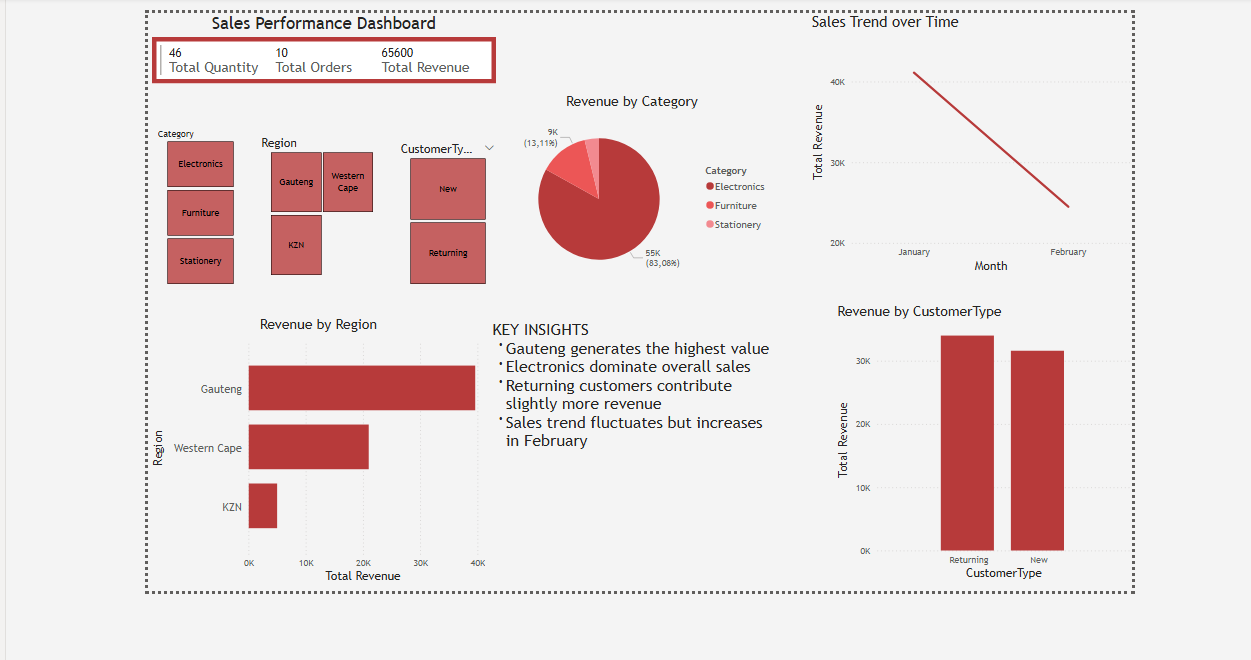

Layout of this report page (visuals, bound fields, positions):
{"tool":"powerbi","page":{"name":"Page 1","canvas":[1313,770],"ordinal":0},"visuals":[{"type":"barChart","title":"Revenue by Region","fields":{"Category":["Sheet1.Region"],"Y":["Sheet1.Total Revenue"]},"box":[0,404,454,360],"z":0},{"type":"lineChart","title":"Sales Trend over Time","fields":{"Y":["Sheet1.Total Revenue"],"Category":["Sheet1.Date.Variation.Date Hierarchy.Month","Sheet1.Date.Variation.Date Hierarchy.Day"]},"box":[880,0,434,350],"z":1000},{"type":"pieChart","title":"Revenue by Category","fields":{"Category":["Sheet1.Category","Sheet1.Region"],"Y":["Sheet1.Total Revenue"]},"box":[454,106,382,262],"z":2000},{"type":"columnChart","title":"Revenue by CustomerType","fields":{"Y":["Sheet1.Total Revenue"],"Category":["Sheet1.CustomerType"]},"box":[914,386,400,374],"z":3000},{"type":"multiRowCard","title":"Sales Performance Dashboard","fields":{"Values":["Sheet1.Total Quantity","Sheet1.Total Orders","Sheet1.Total Revenue"]},"box":[0,0,469,147],"z":4000},{"type":"slicer","fields":{"Values":["Sheet1.Category"]},"box":[0,148,138,220],"z":5000},{"type":"slicer","fields":{"Values":["Sheet1.Region"]},"box":[138,158,186,198],"z":6000},{"type":"slicer","fields":{"Values":["Sheet1.CustomerType"]},"box":[324,166,150,202],"z":6001},{"type":"textbox","box":[454,404,382,230],"z":6002}]}

Visuals, with their boxes on the page's 1313x770 design canvas (x1, y1, x2, y2). These are canvas units, not pixel positions in the 1251x660 screenshot, which may show the page scaled, cropped or inside an application window:
"Revenue by Region" barChart: pyautogui.locateOnScreen(0, 404, 454, 764)
"Sales Trend over Time" lineChart: pyautogui.locateOnScreen(880, 0, 1314, 350)
"Revenue by Category" pieChart: pyautogui.locateOnScreen(454, 106, 836, 368)
"Revenue by CustomerType" columnChart: pyautogui.locateOnScreen(914, 386, 1314, 760)
"Sales Performance Dashboard" multiRowCard: pyautogui.locateOnScreen(0, 0, 469, 147)
slicer - Sheet1.Category: pyautogui.locateOnScreen(0, 148, 138, 368)
slicer - Sheet1.Region: pyautogui.locateOnScreen(138, 158, 324, 356)
slicer - Sheet1.CustomerType: pyautogui.locateOnScreen(324, 166, 474, 368)
textbox: pyautogui.locateOnScreen(454, 404, 836, 634)
